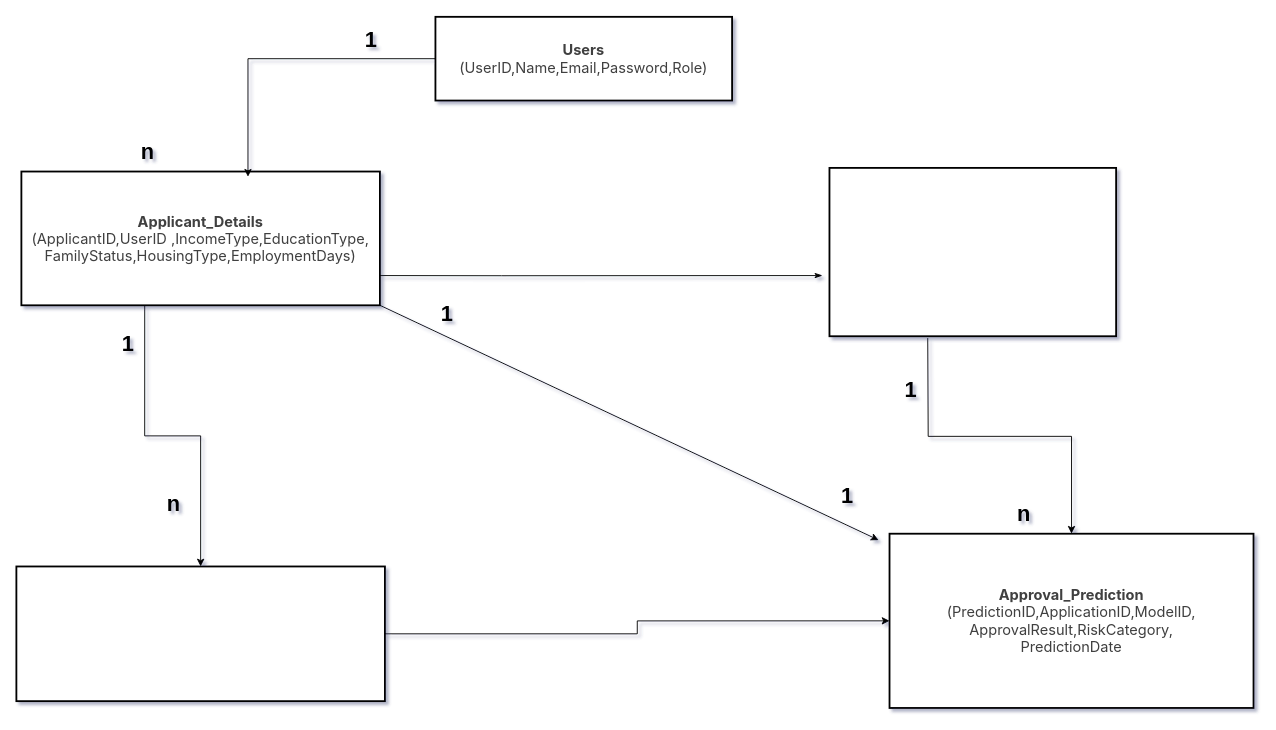
The diagram is 1276 pixels wide and 730 high, and some of its shapes have lost their labels. The shapes that lost their labels are listed below. From the top down, each one's centre as x and y in pixels, then its label:
the point at 972,252: ML_Model (ModelID,ModelName,Algorithm Type, Accuracy,MoreFile)
the point at 200,633: Credit_History {HistoryID,ApplicantID,MonthBalance, PaymentStatus,OverdueStatus)
